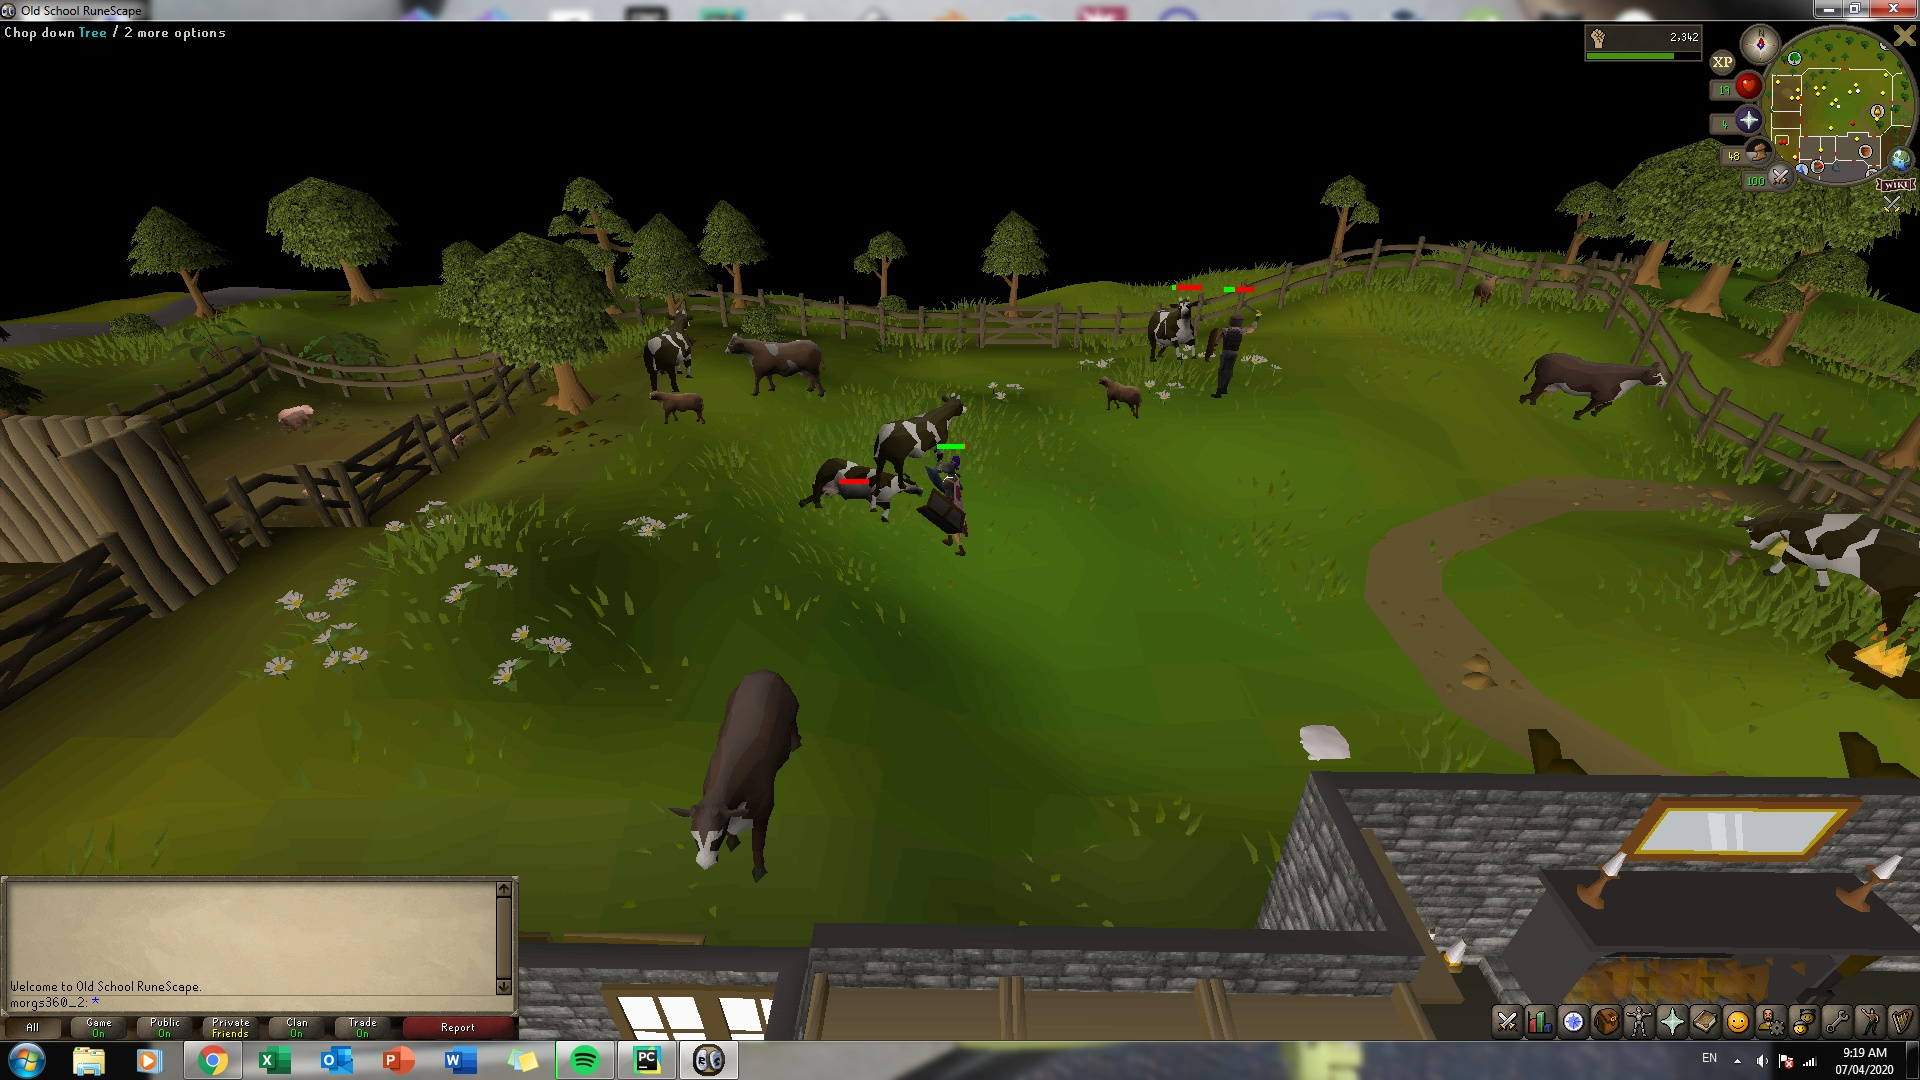cow: (671, 663, 805, 882), (1522, 351, 1669, 425), (724, 330, 826, 402), (809, 456, 919, 522), (879, 388, 967, 463), (639, 312, 694, 387), (1145, 299, 1198, 368), (643, 388, 707, 426), (1097, 375, 1146, 419)
player: (929, 459, 974, 554)
